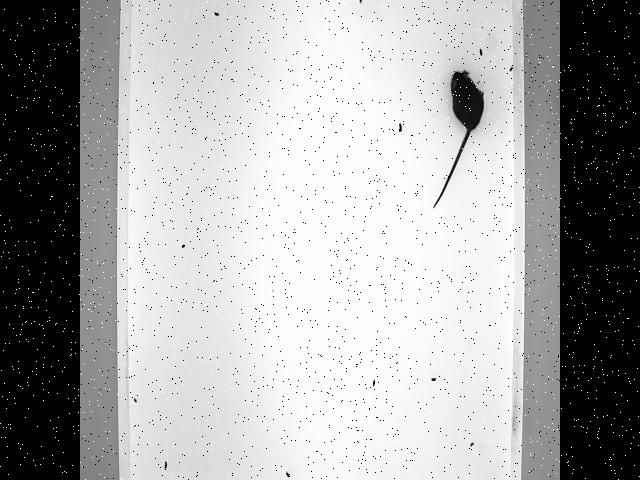Tikus: (432, 68, 484, 207)
